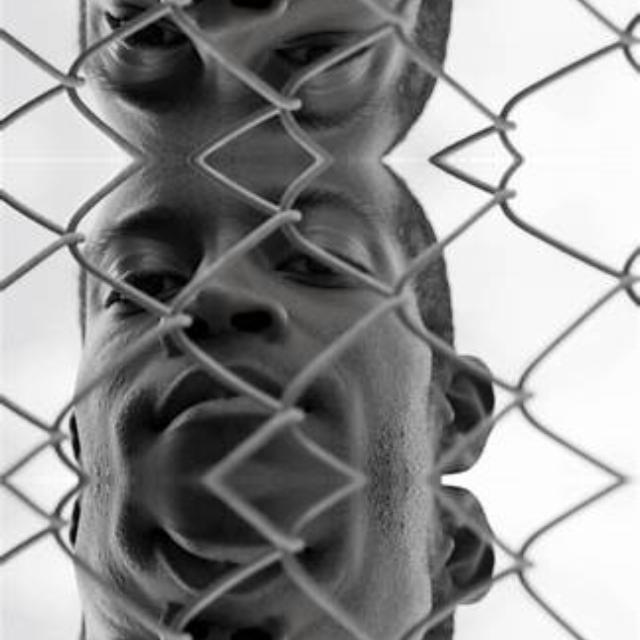person: (50, 160, 490, 480), (50, 0, 490, 160), (50, 480, 490, 640)
